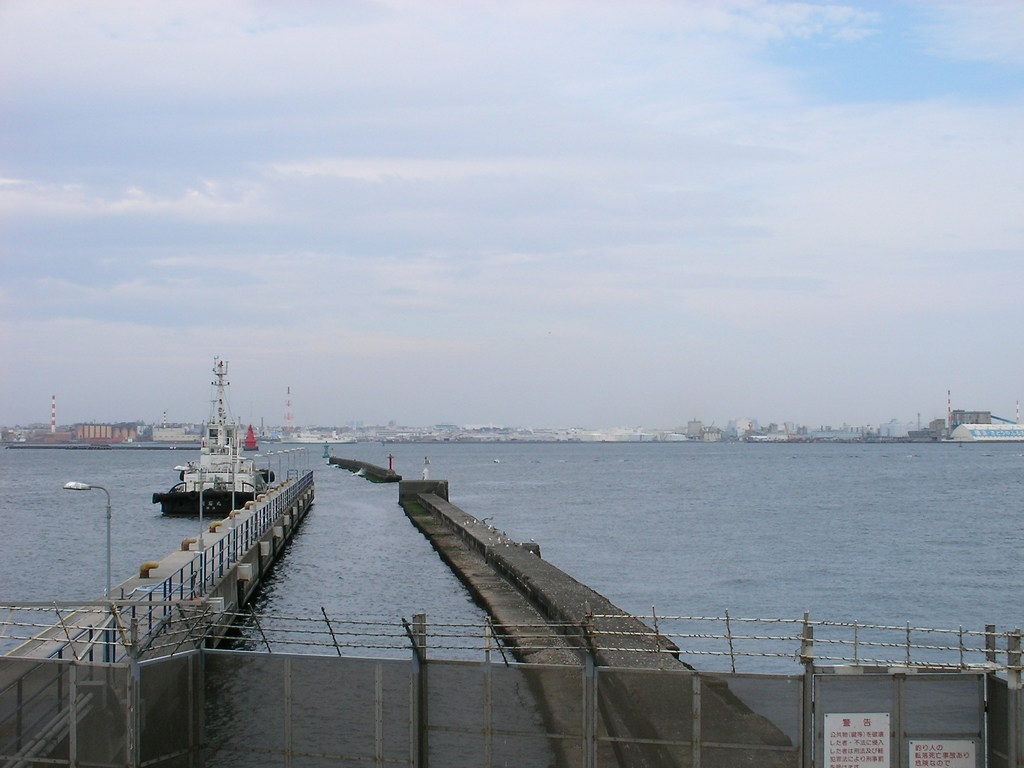boat: (139, 342, 293, 519), (280, 425, 365, 454)
